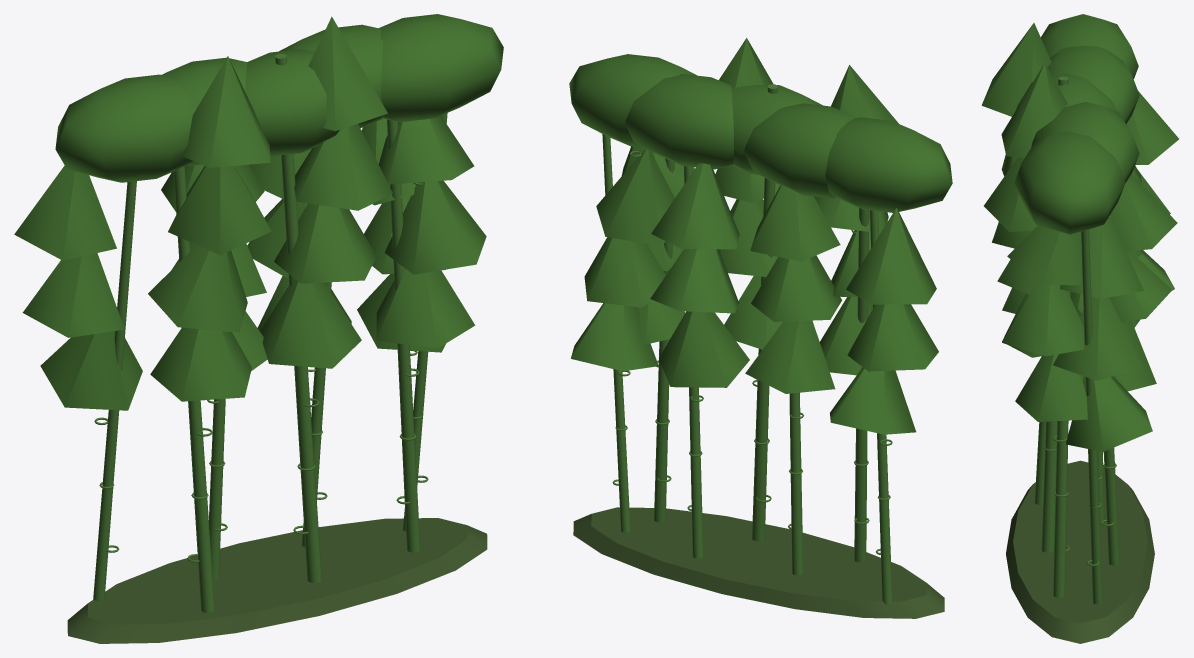
Rendered from pal1-env-bamboo-grove.glb.
3 renders of one model, left to right at view 1: azimuth 30°, elevation 25°; view 2: azimuth 150°, elevation 25°; view 3: azimuth 270°, elevation 25°, orthographic. The views are drawn at different scales.
Visible parts, largest first — view 1: Pal1BambooGrove; view 2: Pal1BambooGrove; view 3: Pal1BambooGrove.
Boxes of the visible parts, <box> form: Pal1BambooGrove: <box>14,14,503,643</box>; Pal1BambooGrove: <box>569,38,952,618</box>; Pal1BambooGrove: <box>981,14,1178,643</box>.
Size of the model in its own units: 3.31 by 4.07 by 1.44.
